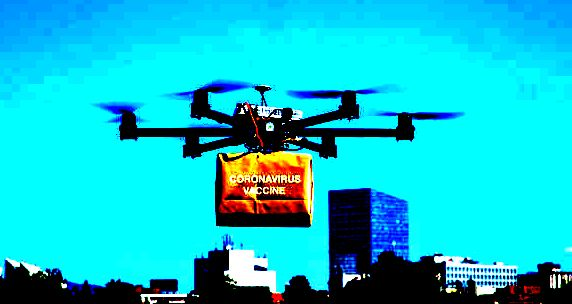Drone: (86, 74, 464, 161)
